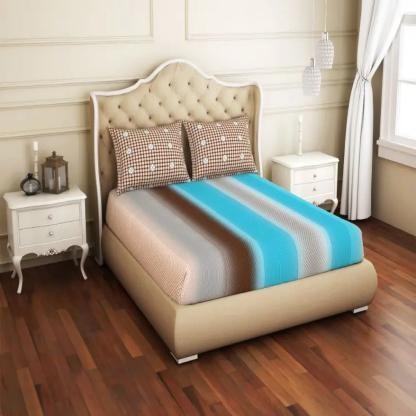bed: (87, 68, 378, 363)
clock: (17, 169, 45, 199)
light: (316, 0, 344, 70), (301, 58, 323, 100)
table: (7, 196, 92, 299), (273, 148, 343, 201)
